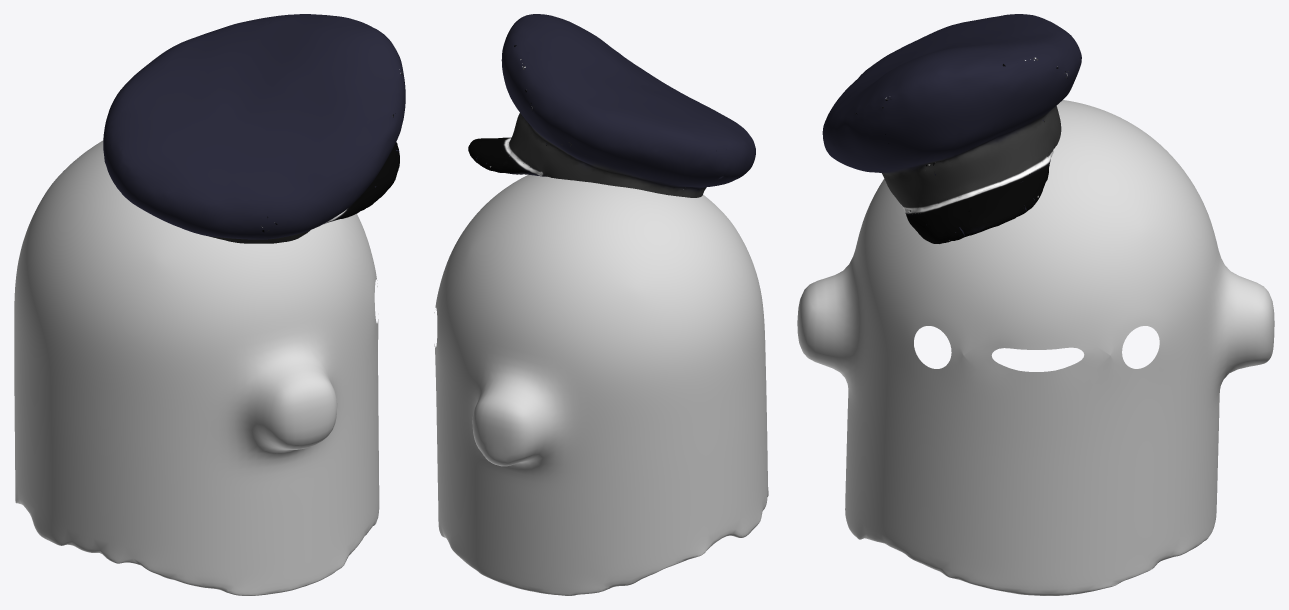
Rendered from nicebellboy.glb.
The picture shows the model from 3 angles, left to right: view 1: azimuth 30°, elevation 25°; view 2: azimuth 150°, elevation 25°; view 3: azimuth 270°, elevation 25°; orthographic projection. The views are drawn at different scales.
Visible parts, largest first — view 1: Cube, kamah_0; view 2: Cube, kamah_0; view 3: Cube, kamah_0.
Boxes of the visible parts, x1=… form: Cube: x1=14, y1=140, x2=379, y2=595; kamah_0: x1=103, y1=14, x2=405, y2=243; Cube: x1=434, y1=175, x2=768, y2=595; kamah_0: x1=468, y1=14, x2=755, y2=197; Cube: x1=797, y1=100, x2=1274, y2=595; kamah_0: x1=822, y1=14, x2=1081, y2=243.
Size of the model in its own units: 1.77 by 2.61 by 2.18.
1 material, 1 textured.
